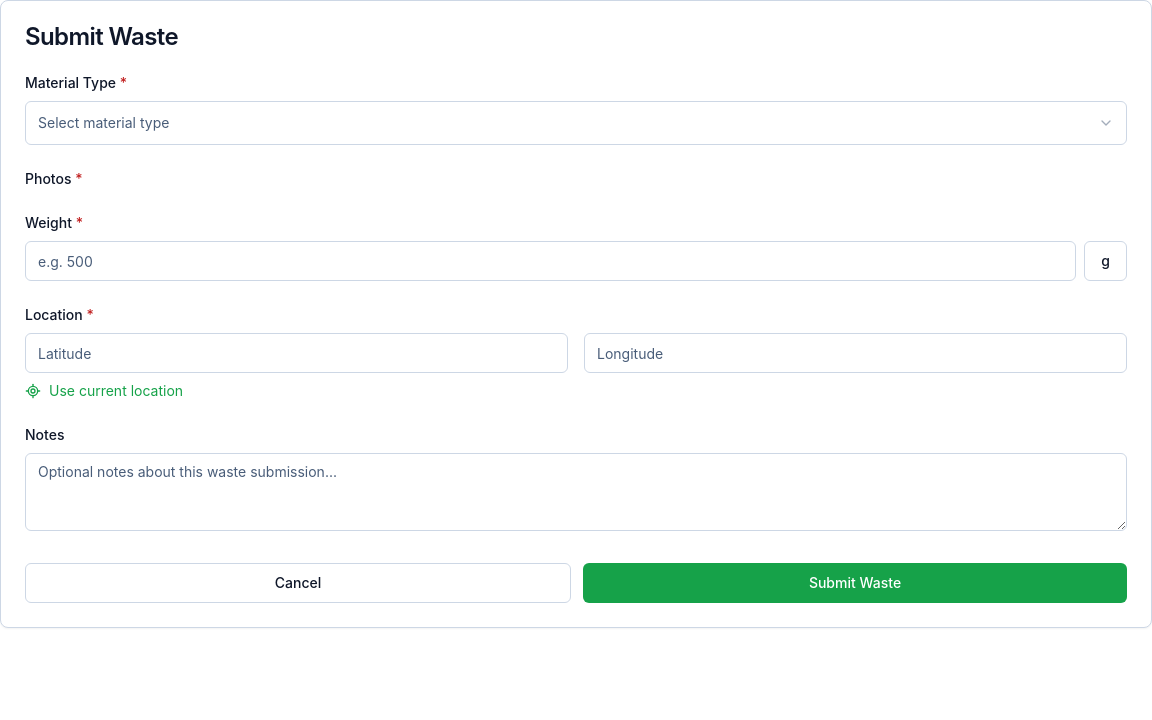
Scenario: WasteSubmissionForm › material type search/filter works
The width and height of the screenshot is (1152, 720).
Step 1. Click the button labelled "Select material type" → (104, 122), box [25,101,1127,145]
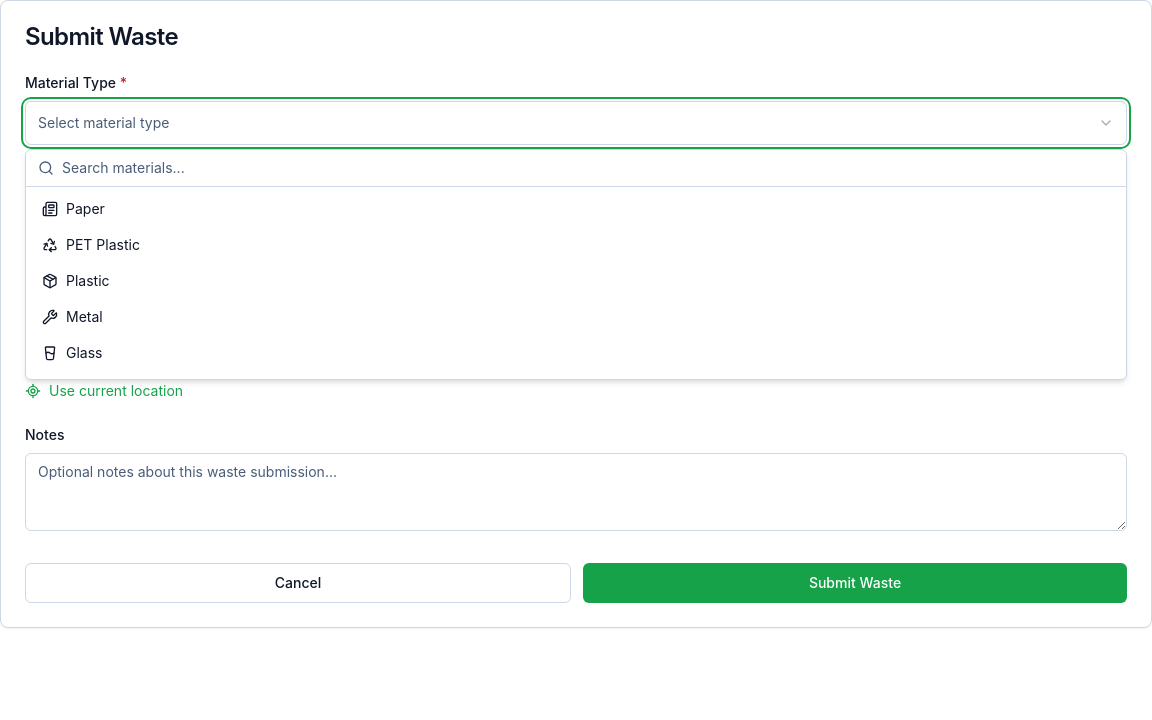
Expected: the option "Paper" is shown, [42,200,105,217]
Expected: the option "Metal" is shown, [42,308,103,325]
Expected: the option "Glass" is shown, [42,344,102,361]
Step 2. Type "pla" into the field labelled "Search materials" → (584, 168), box [54,150,1114,186]
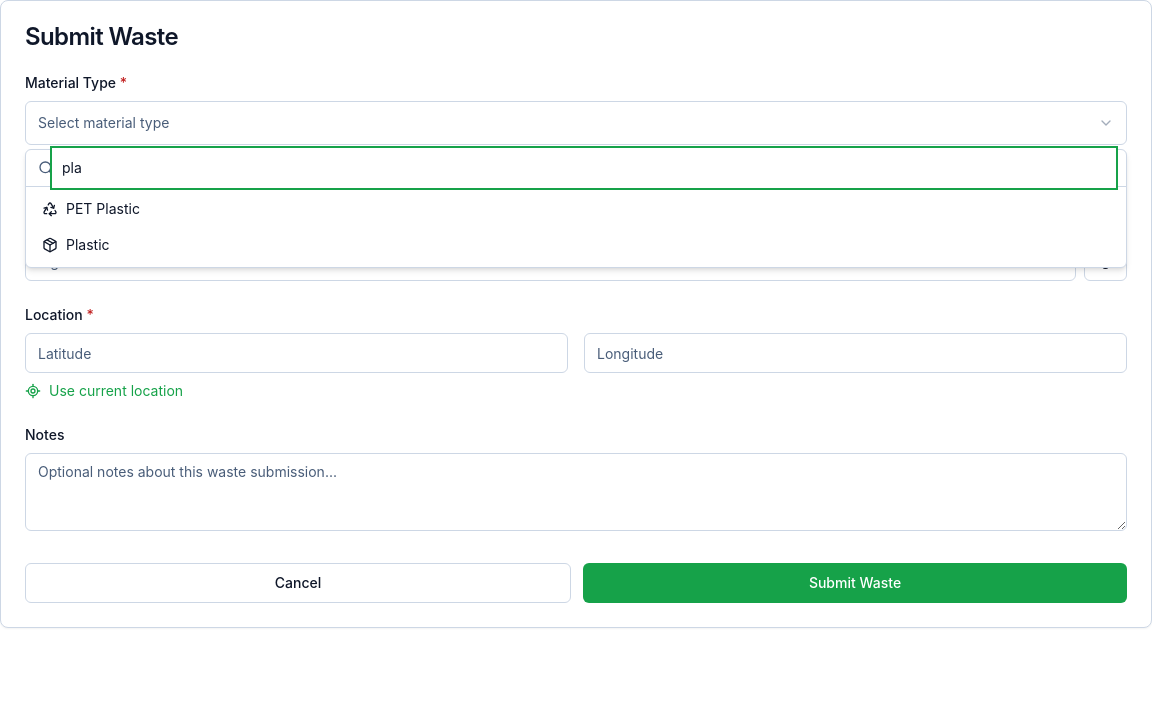
Expected: the option "PET Plastic" is shown, [42,200,140,217]
Expected: the option "Plastic" is shown, [42,236,110,253]
Expected: the option "Paper" is gone
